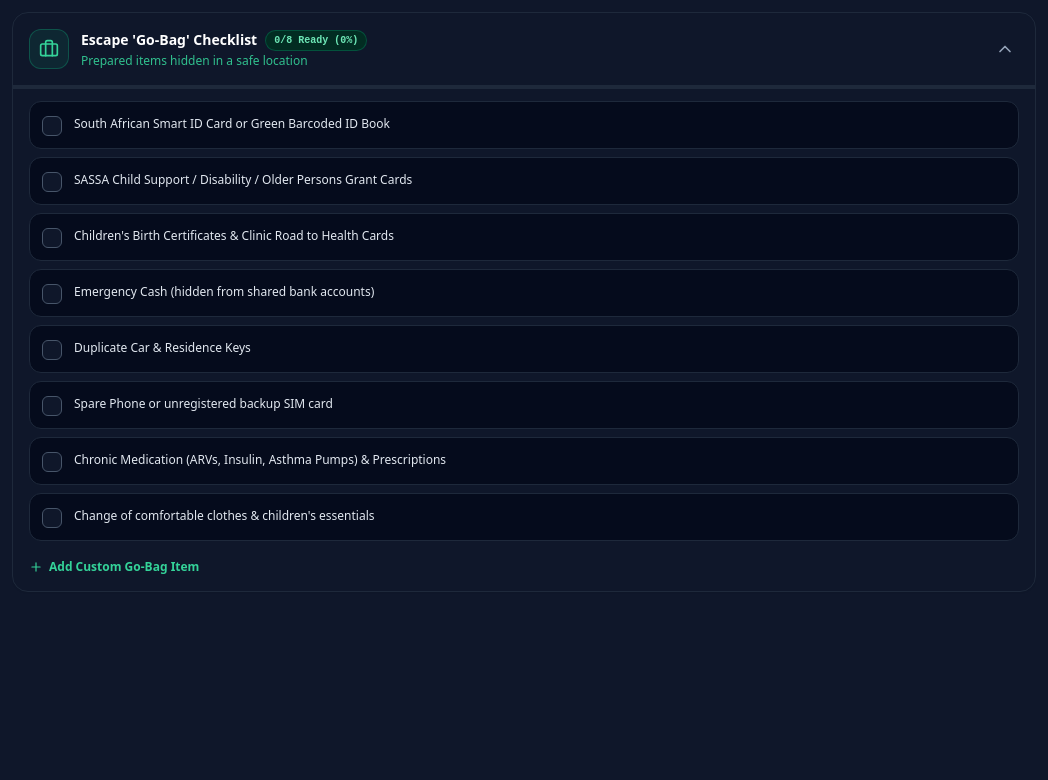
Scenario: EscapeGoBagChecklist Component › toggles item checked state and updates ready count and progress
The image size is (1048, 780).
Expected: the text "0/8 Ready (0%)" is shown, [265, 30, 367, 50]
// Click item to mark as ready
Click the text "South African Smart ID Card or Green Barcoded ID Book": (232, 124) [74, 114, 390, 134]
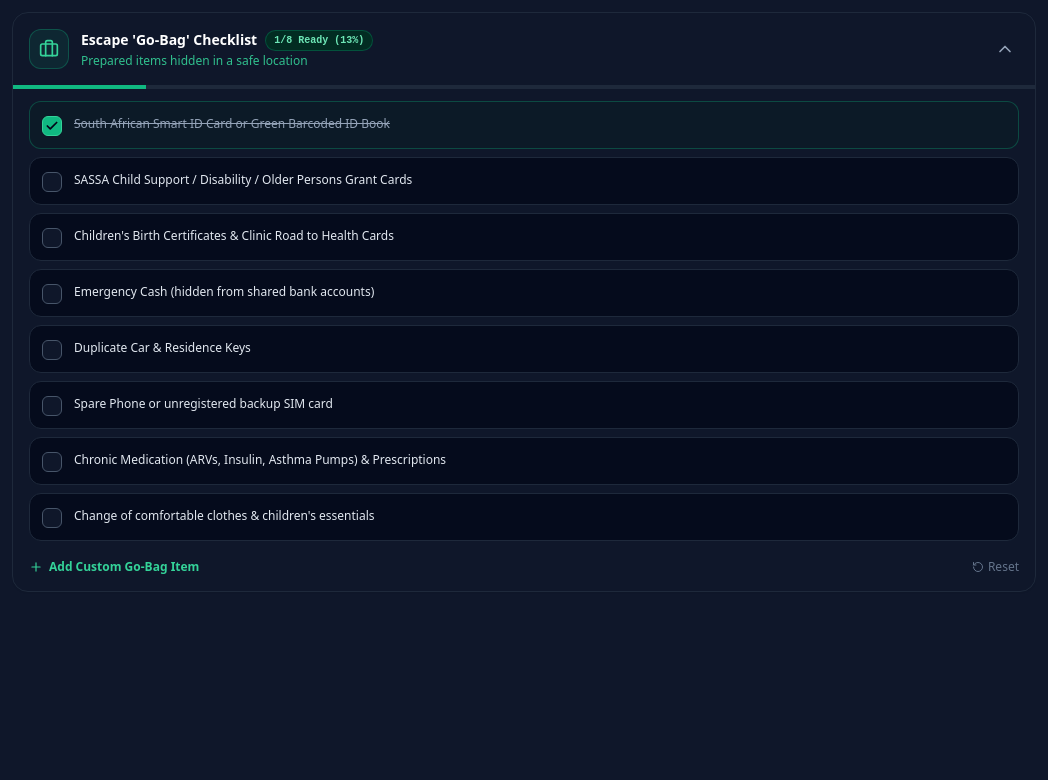
Expected: the text "1/8 Ready (13%)" is shown, [265, 30, 373, 50]
